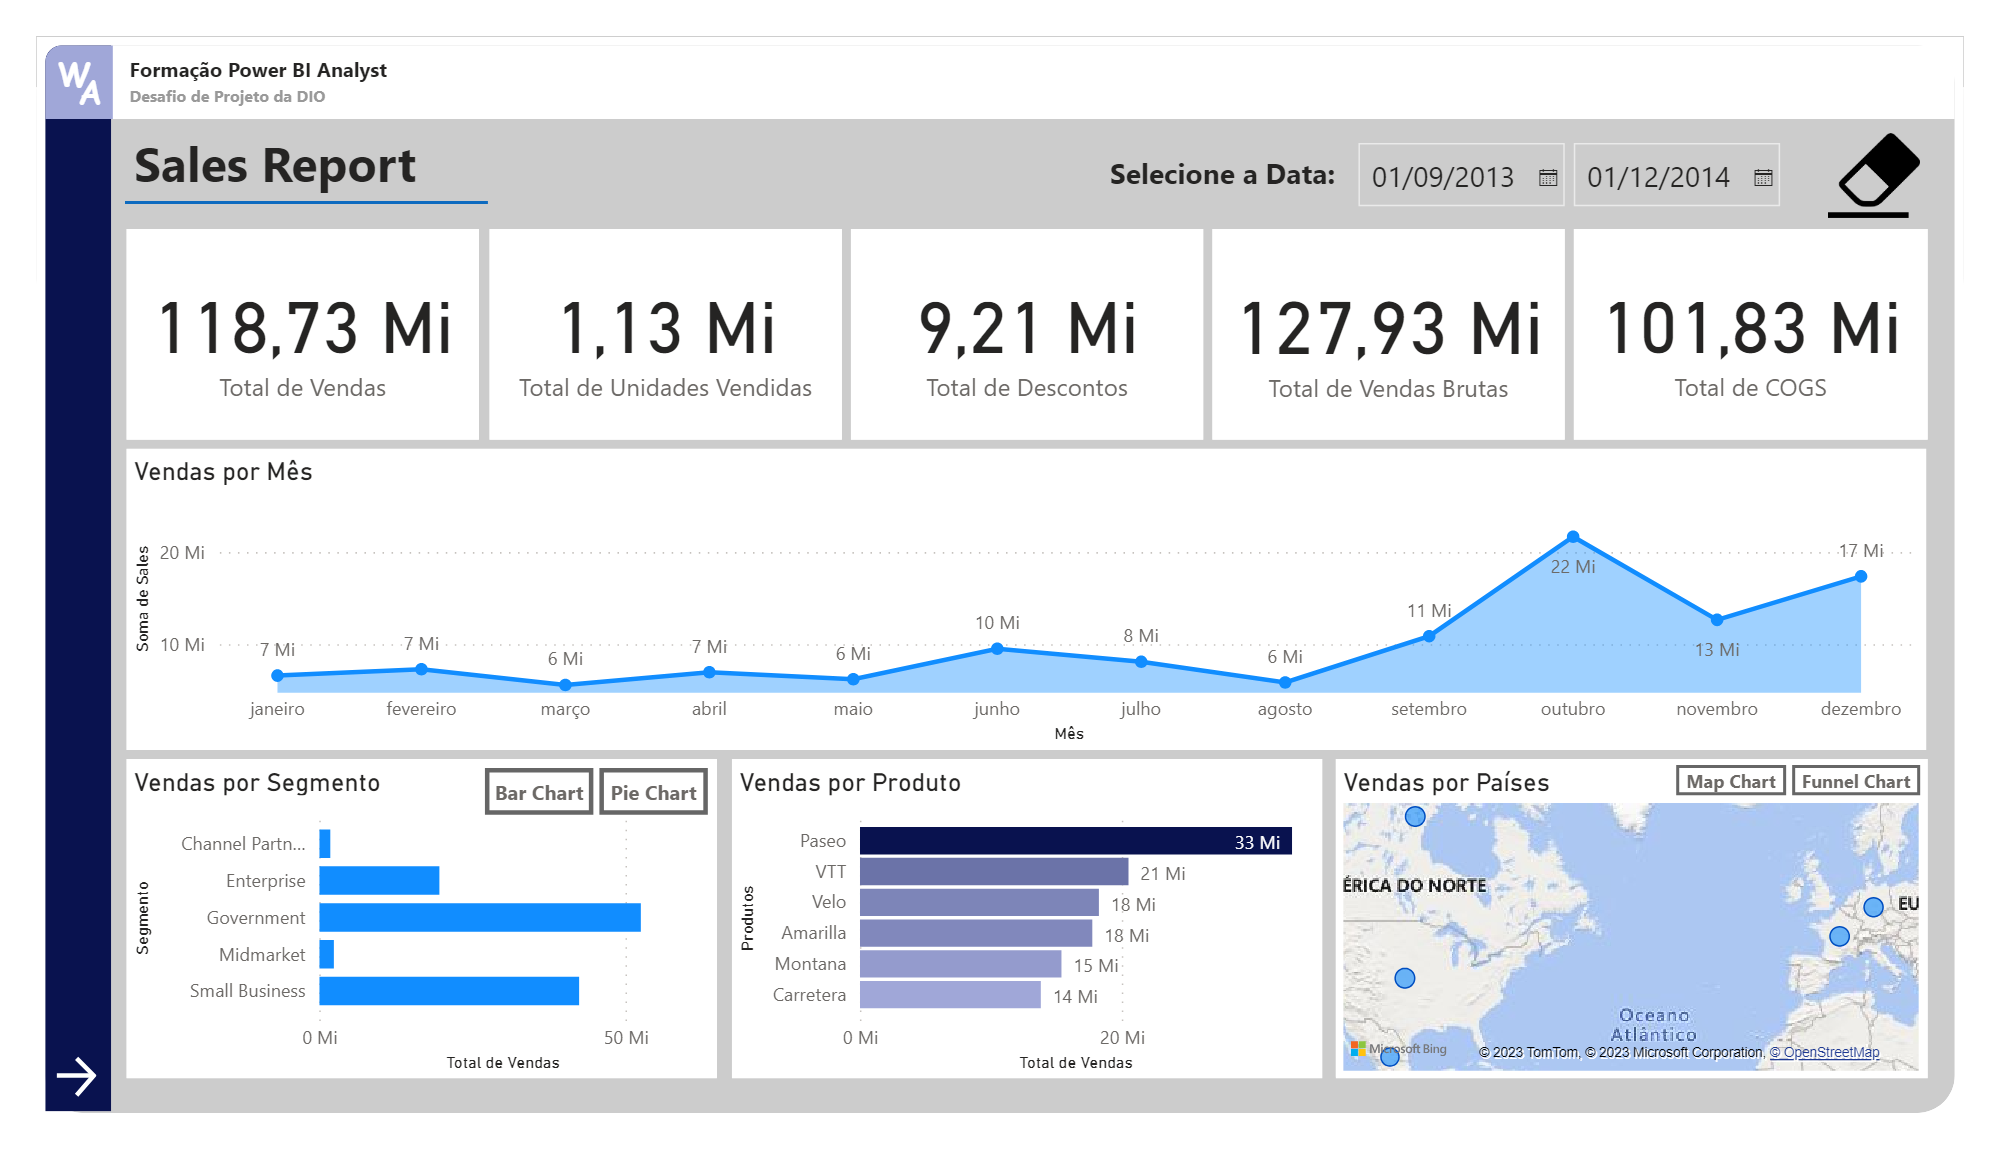

The page's visual inventory and layout, read from the dashboard file:
{"tool":"powerbi","page":{"name":"Sales Report","canvas":[1280,720],"ordinal":0},"visuals":[{"type":"group","id":"g1","title":"Background","box":[0,0,1280.4,720.9],"z":0},{"type":"shape","title":"Background - Grey","box":[0,0,1280.4,720.9],"z":0,"group":"g1"},{"type":"shape","title":"F - Sales","box":[60.3,127.7,240,140],"z":0,"group":"g3"},{"type":"shape","title":"F - Grafico","box":[60.3,274,1195,200],"z":0,"group":"g4"},{"type":"shape","title":"F - Sales por Segment","box":[60.2,480,392,212],"z":0,"group":"g7"},{"type":"shape","title":"F - Sales por Product","box":[462,480.3,392.4,212.1],"z":0,"group":"g8"},{"type":"shape","title":"F - Vendas por Países","box":[863.2,480.4,392.4,212.1],"z":0,"group":"g9"},{"type":"funnel","title":"Vendas por Países","fields":{"Category":["financials.Country"],"Y":["Sum(financials. Sales)"]},"box":[862.9,480,392.1,211.1],"z":500,"group":"g9"},{"type":"pieChart","title":"Vendas por Segmento","fields":{"Y":["Sum(financials. Sales)"],"Category":["financials.Segment"]},"box":[60.5,480.1,391.4,210.8],"z":500,"group":"g7"},{"type":"shape","box":[0,0,1280.4,55],"z":1000,"group":"g1"},{"type":"group","id":"g2","title":"Caixas de Texto","box":[6.2,4.4,353.3,112.2],"z":1000},{"type":"card","title":"C - Soma De Sales","fields":{"Values":["Sum(financials. Sales)"]},"box":[60.6,127.8,234.1,140.1],"z":1000,"group":"g3"},{"type":"areaChart","title":"Vendas por Mês","fields":{"Category":["financials.Date.Variation.Hierarquia de datas.Mês"],"Y":["Sum(financials. Sales)"]},"box":[60.3,274,1195.3,200.4],"z":1000,"group":"g4"},{"type":"clusteredBarChart","title":"Vendas por Segmento","fields":{"Y":["Sum(financials. Sales)"],"Category":["financials.Segment"]},"box":[60,480,392,212],"z":1000,"group":"g7"},{"type":"clusteredBarChart","title":"Vendas por Produto","fields":{"Y":["Sum(financials. Sales)"],"Category":["financials.Product"]},"box":[462,480,392.4,212],"z":1000,"group":"g8"},{"type":"map","fields":{"Category":["financials.Country"],"Size":["Sum(financials. Sales)"]},"box":[863.2,480.4,392.4,212],"z":1000,"group":"g9"},{"type":"shape","box":[0,0,50,720],"z":2000,"group":"g1"},{"type":"textbox","title":"CdT - Titulo","box":[57.6,7.9,299.7,47],"z":2000,"group":"g2"},{"type":"shape","title":"F - Units Sold","box":[300.9,127.8,240.3,140.1],"z":2000,"group":"g3"},{"type":"actionButton","title":"Botão I - Grafico de Mapa","box":[1088.9,484.2,72.9,20.1],"z":2000,"group":"g9"},{"type":"actionButton","title":"Botão I - Grafico de Barras","box":[297.5,485.7,72.6,31.1],"z":2000,"group":"g7"},{"type":"actionButton","title":"Botão - Proxima Página","box":[8.2,671.2,36.2,39.8],"z":2000},{"type":"actionButton","title":"Botão I - Grafico de Mapa","box":[1166,484.2,84.5,20.1],"z":2500,"group":"g9"},{"type":"actionButton","title":"Botão I - Grafico de Pizza","box":[373.9,485.7,72.6,31.1],"z":2500,"group":"g7"},{"type":"shape","box":[0,0,51,55],"z":3000,"group":"g1"},{"type":"textbox","title":"CdT - W","box":[6.2,4.4,39,50.5],"z":3000,"group":"g2"},{"type":"group","id":"g3","title":"Cards","box":[60.3,127.7,1201.5,140.1],"z":3000},{"type":"card","title":"C - Soma de Units Sold","fields":{"Values":["Sum(financials.Units Sold)"]},"box":[300.9,127.8,234.1,140.1],"z":3000,"group":"g3"},{"type":"textbox","title":"CdT - A","box":[23,16.8,34.6,51.4],"z":4000,"group":"g2"},{"type":"shape","title":"F - Discounts","box":[541.2,127.8,240.3,140.1],"z":4000,"group":"g3"},{"type":"group","id":"g4","title":"Grafico Central","box":[60.3,274,1195.3,200.4],"z":4000},{"type":"shape","title":"Linha","box":[59.4,105,240.7,11.7],"z":5000,"group":"g2"},{"type":"card","title":"C - Soma de Discounts","fields":{"Values":["Sum(financials.Discounts)"]},"box":[541.2,127.8,234.1,140.1],"z":5000,"group":"g3"},{"type":"group","id":"g5","title":"Graficos Inferiores","box":[60,480,1195.6,212.5],"z":5000},{"type":"textbox","title":"CdT - Sales Report","box":[60.4,57.2,299.1,59.4],"z":6000,"group":"g2"},{"type":"group","id":"g6","title":"Segmentador de Data","box":[708.4,57.3,548.3,70],"z":6000},{"type":"shape","title":"F - Gross Sales","box":[781.5,127.8,240.3,140.1],"z":6000,"group":"g3"},{"type":"card","title":"C - Soma de Gross Sales","fields":{"Values":["Sum(financials.Gross Sales)"]},"box":[781.5,127.8,234.1,140.1],"z":7000,"group":"g3"},{"type":"shape","title":"F - COGS","box":[1021.8,127.8,240.3,140.1],"z":8000,"group":"g3"},{"type":"image","title":"Img - Erase","box":[1185.6,57.3,71.1,70],"z":9000,"group":"g6"},{"type":"card","title":"C - Soma de COGS","fields":{"Values":["Sum(financials.COGS)"]},"box":[1021.8,127.8,234.1,140.1],"z":9000,"group":"g3"},{"type":"slicer","title":"Seleção de Data","fields":{"Values":["financials.Date"]},"box":[865.4,61.5,306.5,59.4],"z":10000,"group":"g6"},{"type":"group","id":"g7","title":"Total de Vendas por Segmento","box":[60,480,392.2,212],"z":10000,"group":"g5"},{"type":"textbox","title":"Selecione a Data","box":[708.4,73.2,169.7,40.3],"z":11000,"group":"g6"},{"type":"group","id":"g8","title":"Total de Vendas por Produto","box":[462,480,392.4,212.4],"z":11000,"group":"g5"},{"type":"actionButton","title":"Botão - Resetar Filtro","box":[1185.6,57.3,71.1,70],"z":11500,"group":"g6"},{"type":"group","id":"g9","title":"Total de Vendas por Países","box":[862.9,480,392.7,212.5],"z":11500,"group":"g5"}]}

Visuals, with their boxes on the page's 1280x720 design canvas (x1, y1, x2, y2). These are canvas units, not pixel positions in the 2000x1156 screenshot, which may show the page scaled, cropped or inside an application window:
"Background" group: crop(0, 0, 1280, 721)
"Background - Grey" shape: crop(0, 0, 1280, 721)
"F - Sales" shape: crop(60, 128, 300, 268)
"F - Grafico" shape: crop(60, 274, 1255, 474)
"F - Sales por Segment" shape: crop(60, 480, 452, 692)
"F - Sales por Product" shape: crop(462, 480, 854, 692)
"F - Vendas por Países" shape: crop(863, 480, 1256, 692)
"Vendas por Países" funnel: crop(863, 480, 1255, 691)
"Vendas por Segmento" pieChart: crop(60, 480, 452, 691)
shape: crop(0, 0, 1280, 55)
"Caixas de Texto" group: crop(6, 4, 360, 117)
"C - Soma De Sales" card: crop(61, 128, 295, 268)
"Vendas por Mês" areaChart: crop(60, 274, 1256, 474)
"Vendas por Segmento" clusteredBarChart: crop(60, 480, 452, 692)
"Vendas por Produto" clusteredBarChart: crop(462, 480, 854, 692)
map - financials.Country x Sum(financials. Sales): crop(863, 480, 1256, 692)
shape: crop(0, 0, 50, 720)
"CdT - Titulo" textbox: crop(58, 8, 357, 55)
"F - Units Sold" shape: crop(301, 128, 541, 268)
"Botão I - Grafico de Mapa" actionButton: crop(1089, 484, 1162, 504)
"Botão I - Grafico de Barras" actionButton: crop(298, 486, 370, 517)
"Botão - Proxima Página" actionButton: crop(8, 671, 44, 711)
"Botão I - Grafico de Mapa" actionButton: crop(1166, 484, 1250, 504)
"Botão I - Grafico de Pizza" actionButton: crop(374, 486, 446, 517)
shape: crop(0, 0, 51, 55)
"CdT - W" textbox: crop(6, 4, 45, 55)
"Cards" group: crop(60, 128, 1262, 268)
"C - Soma de Units Sold" card: crop(301, 128, 535, 268)
"CdT - A" textbox: crop(23, 17, 58, 68)
"F - Discounts" shape: crop(541, 128, 782, 268)
"Grafico Central" group: crop(60, 274, 1256, 474)
"Linha" shape: crop(59, 105, 300, 117)
"C - Soma de Discounts" card: crop(541, 128, 775, 268)
"Graficos Inferiores" group: crop(60, 480, 1256, 692)
"CdT - Sales Report" textbox: crop(60, 57, 360, 117)
"Segmentador de Data" group: crop(708, 57, 1257, 127)
"F - Gross Sales" shape: crop(782, 128, 1022, 268)
"C - Soma de Gross Sales" card: crop(782, 128, 1016, 268)
"F - COGS" shape: crop(1022, 128, 1262, 268)
"Img - Erase" image: crop(1186, 57, 1257, 127)
"C - Soma de COGS" card: crop(1022, 128, 1256, 268)
"Seleção de Data" slicer: crop(865, 62, 1172, 121)
"Total de Vendas por Segmento" group: crop(60, 480, 452, 692)
"Selecione a Data" textbox: crop(708, 73, 878, 114)
"Total de Vendas por Produto" group: crop(462, 480, 854, 692)
"Botão - Resetar Filtro" actionButton: crop(1186, 57, 1257, 127)
"Total de Vendas por Países" group: crop(863, 480, 1256, 692)
